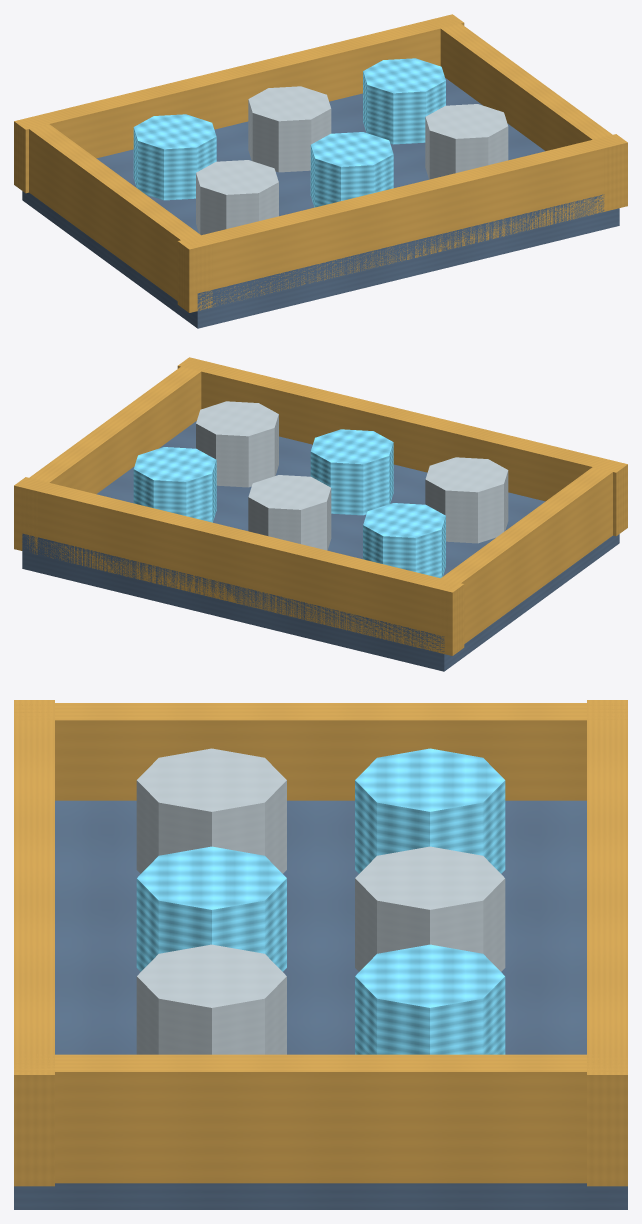
Rendered from atlas100-s051-a03.glb.
3 renders of one model, top to bottom at view 1: azimuth 30°, elevation 25°; view 2: azimuth 150°, elevation 25°; view 3: azimuth 270°, elevation 25°, orthographic. The views are drawn at different scales.
Visible parts, largest first — view 1: atlas100-s051-a03:part-002, atlas100-s051-a03:part-000, atlas100-s051-a03:part-001, atlas100-s051-a03:part-003, atlas100-s051-a03:part-004, atlas100-s051-a03:part-005, atlas100-s051-a03:part-006, atlas100-s051-a03:part-007, atlas100-s051-a03:part-009, atlas100-s051-a03:part-010, atlas100-s051-a03:part-008; view 2: atlas100-s051-a03:part-001, atlas100-s051-a03:part-000, atlas100-s051-a03:part-002, atlas100-s051-a03:part-003, atlas100-s051-a03:part-004, atlas100-s051-a03:part-008, atlas100-s051-a03:part-009, atlas100-s051-a03:part-010, atlas100-s051-a03:part-006, atlas100-s051-a03:part-007, atlas100-s051-a03:part-005; view 3: atlas100-s051-a03:part-000, atlas100-s051-a03:part-004, atlas100-s051-a03:part-003, atlas100-s051-a03:part-001, atlas100-s051-a03:part-002, atlas100-s051-a03:part-007, atlas100-s051-a03:part-010, atlas100-s051-a03:part-006, atlas100-s051-a03:part-009, atlas100-s051-a03:part-005, atlas100-s051-a03:part-008.
Part boxes in pixels (x1,y1,x2,y2): atlas100-s051-a03:part-002: (177,134,627,312); atlas100-s051-a03:part-000: (22,78,619,328); atlas100-s051-a03:part-001: (14,14,464,193); atlas100-s051-a03:part-003: (29,124,212,311); atlas100-s051-a03:part-004: (430,15,624,211); atlas100-s051-a03:part-005: (133,114,216,200); atlas100-s051-a03:part-006: (248,86,331,172); atlas100-s051-a03:part-007: (363,58,445,144); atlas100-s051-a03:part-009: (310,132,393,207); atlas100-s051-a03:part-010: (425,104,508,179); atlas100-s051-a03:part-008: (196,160,278,235); atlas100-s051-a03:part-001: (14,477,464,655); atlas100-s051-a03:part-000: (22,421,619,671); atlas100-s051-a03:part-002: (177,357,627,536); atlas100-s051-a03:part-003: (429,467,612,654); atlas100-s051-a03:part-004: (17,358,211,554); atlas100-s051-a03:part-008: (425,457,508,543); atlas100-s051-a03:part-009: (310,429,393,515); atlas100-s051-a03:part-010: (196,401,278,487); atlas100-s051-a03:part-006: (248,475,331,550); atlas100-s051-a03:part-007: (133,447,216,522); atlas100-s051-a03:part-005: (363,503,445,578); atlas100-s051-a03:part-000: (14,800,627,1209); atlas100-s051-a03:part-004: (14,1054,627,1183); atlas100-s051-a03:part-003: (14,703,627,800); atlas100-s051-a03:part-001: (587,700,627,1186); atlas100-s051-a03:part-002: (14,700,54,1186); atlas100-s051-a03:part-007: (355,944,505,1054); atlas100-s051-a03:part-010: (136,944,286,1054); atlas100-s051-a03:part-006: (355,846,505,971); atlas100-s051-a03:part-009: (136,846,286,971); atlas100-s051-a03:part-005: (355,748,505,873); atlas100-s051-a03:part-008: (136,748,286,873).
Size of the model in its own units: 1.36 by 0.2563 by 0.9414.
Materials: 4 (4 with a texture image).
